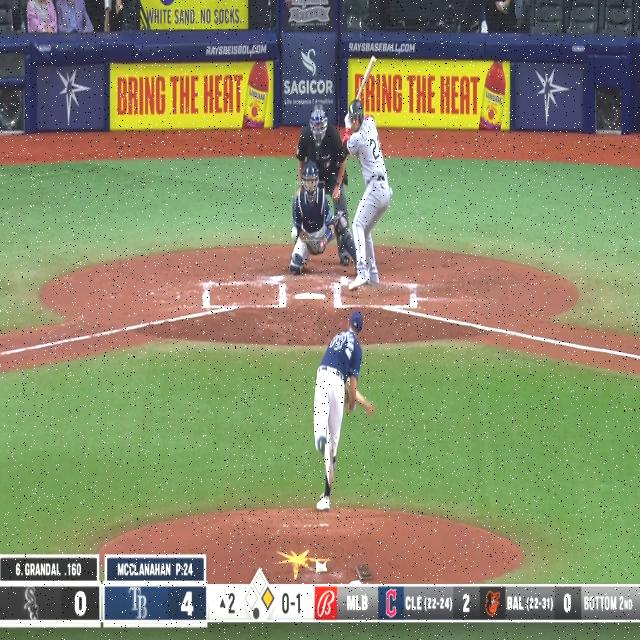baseball: (291, 226, 298, 239)
